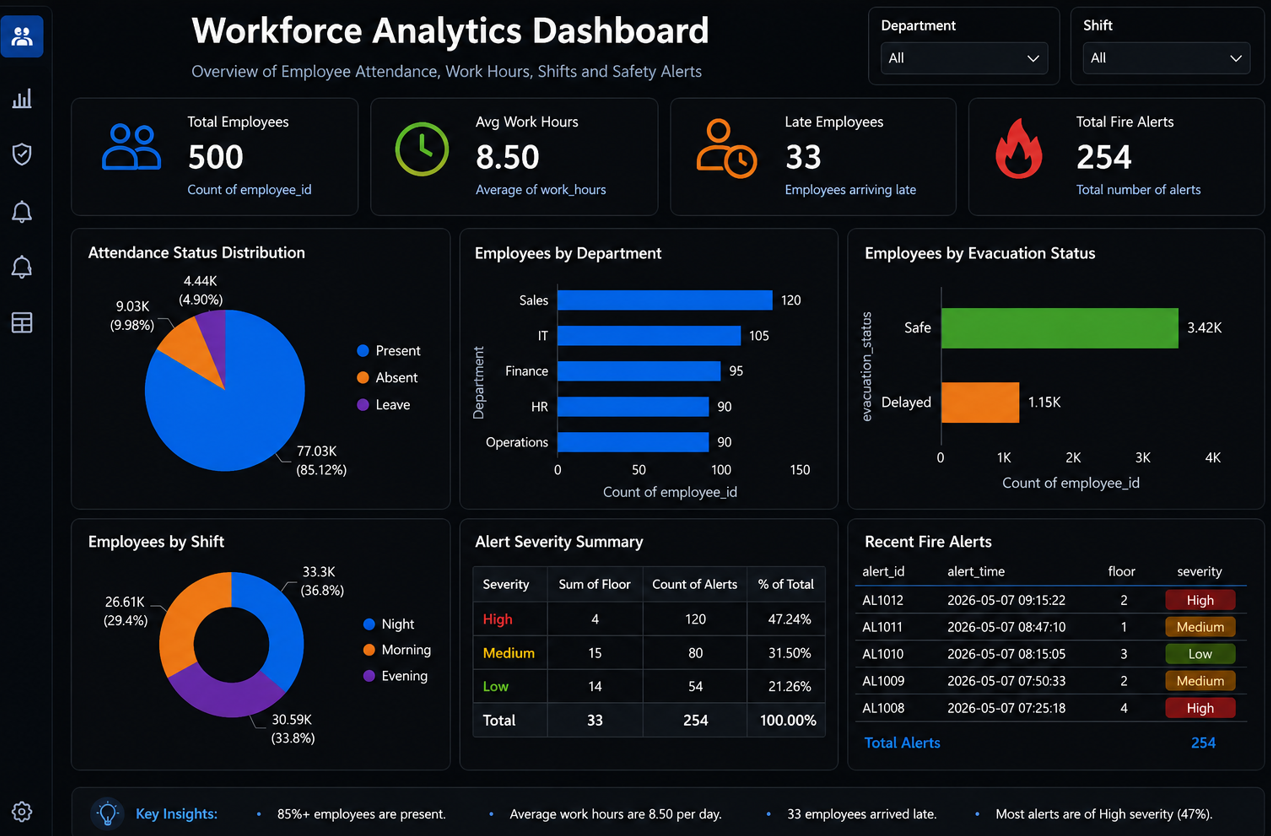

The page's visual inventory and layout, read from the dashboard file:
{"tool":"powerbi","page":{"name":"Page 1","canvas":[1280,720],"ordinal":0},"visuals":[{"type":"textbox","box":[9.4,0,1254.8,66.1],"z":0},{"type":"cardVisual","fields":{"Data":["Count(employees.employee_id)"]},"box":[20.8,81.3,228.7,119.1],"z":1000},{"type":"cardVisual","fields":{"Data":["Avg(attendance_logs.work_hours)"]},"box":[302.4,83.2,223,119.1],"z":2000},{"type":"pieChart","fields":{"Category":["attendance_logs.status"],"Y":["CountNonNull(attendance_logs.employee_id)"]},"box":[20.8,215.4,362.8,272.1],"z":3000},{"type":"clusteredBarChart","fields":{"Category":["employees.department"],"Y":["CountNonNull(employees.employee_id)"]},"box":[417.6,215.4,340.2,257],"z":4000},{"type":"donutChart","fields":{"Category":["employees.shift"],"Y":["CountNonNull(attendance_logs.employee_id)"]},"box":[20.8,504.6,451.7,192.8],"z":5000},{"type":"clusteredBarChart","fields":{"Category":["evacuation_logs.evacuation_status"],"Y":["CountNonNull(evacuation_logs.employee_id)"]},"box":[786.1,223,436.5,257],"z":6000},{"type":"cardVisual","fields":{"Data":["fire_alerts.Total Fire Alerts"]},"box":[816.4,83.2,232.4,119.1],"z":7000},{"type":"tableEx","fields":{"Values":["fire_alerts.Alert ID","fire_alerts.Alert_Time Hierarchy.Alert_Time","fire_alerts.Floor Name","fire_alerts.Severity"]},"box":[483.8,531,349.6,158.7],"z":8000},{"type":"pivotTable","fields":{"Rows":["fire_alerts.Severity"],"Values":["CountNonNull(fire_alerts.Alert ID)","Sum(fire_alerts.Floor)"]},"box":[854.2,551.8,262.7,126.6],"z":9000},{"type":"cardVisual","fields":{"Data":["employees.Total Departments"]},"box":[557.5,81.3,200.3,120.9],"z":10000}]}

Visuals, with their boxes on the page's 1280x720 design canvas (x1, y1, x2, y2). These are canvas units, not pixel positions in the 1271x836 screenshot, which may show the page scaled, cropped or inside an application window:
textbox: (x1=9, y1=0, x2=1264, y2=66)
cardVisual - Count(employees.employee_id): (x1=21, y1=81, x2=250, y2=200)
cardVisual - Avg(attendance_logs.work_hours): (x1=302, y1=83, x2=525, y2=202)
pieChart - attendance_logs.status x CountNonNull(attendance_logs.employee_id): (x1=21, y1=215, x2=384, y2=488)
clusteredBarChart - employees.department x CountNonNull(employees.employee_id): (x1=418, y1=215, x2=758, y2=472)
donutChart - employees.shift x CountNonNull(attendance_logs.employee_id): (x1=21, y1=505, x2=472, y2=697)
clusteredBarChart - evacuation_logs.evacuation_status x CountNonNull(evacuation_logs.employee_id): (x1=786, y1=223, x2=1223, y2=480)
cardVisual - fire_alerts.Total Fire Alerts: (x1=816, y1=83, x2=1049, y2=202)
tableEx - fire_alerts.Alert ID x fire_alerts.Alert_Time Hierarchy.Alert_Time: (x1=484, y1=531, x2=833, y2=690)
pivotTable - fire_alerts.Severity x CountNonNull(fire_alerts.Alert ID): (x1=854, y1=552, x2=1117, y2=678)
cardVisual - employees.Total Departments: (x1=558, y1=81, x2=758, y2=202)
